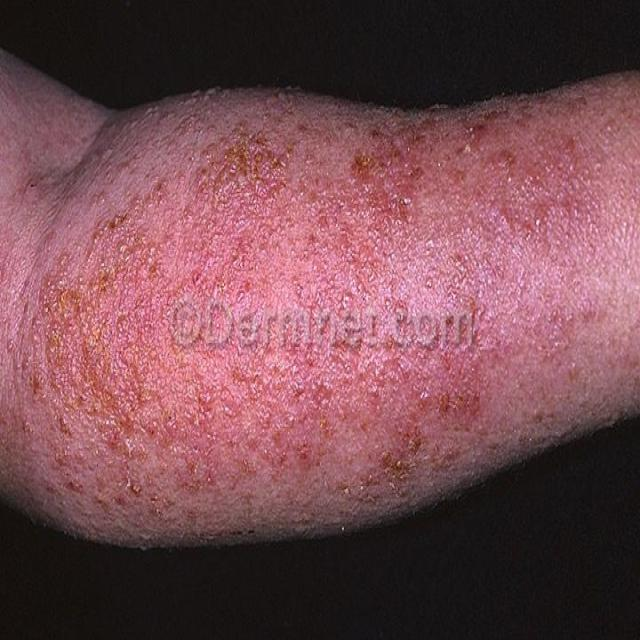Eczema: (20, 109, 500, 534)
